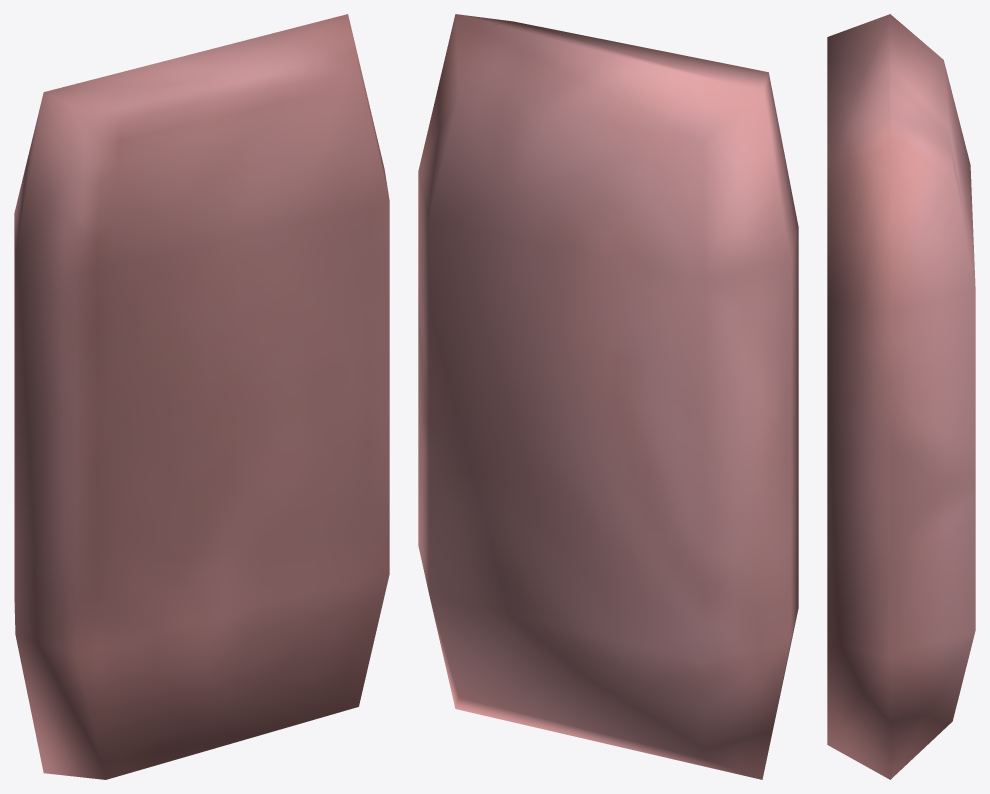
File: props_pillow_pink.fbx
3 views of the same model, side by side, from view 1: azimuth 30°, elevation 25°; view 2: azimuth 150°, elevation 25°; view 3: azimuth 270°, elevation 25° (orthographic). The views are drawn at different scales.
Parts seen in each view (by area): view 1: pillow_pink; view 2: pillow_pink; view 3: pillow_pink.
Boxes of the visible parts, x1,y1,x2,y2 form: pillow_pink: (14, 14, 389, 779); pillow_pink: (418, 14, 798, 779); pillow_pink: (827, 14, 975, 779).
Bounding box in the file's own units: 0.477 × 0.8504 × 0.1804.
1 material, 1 textured.
